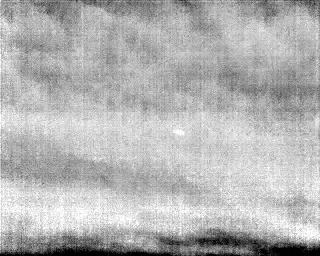BIRD: (171, 126, 188, 140)
